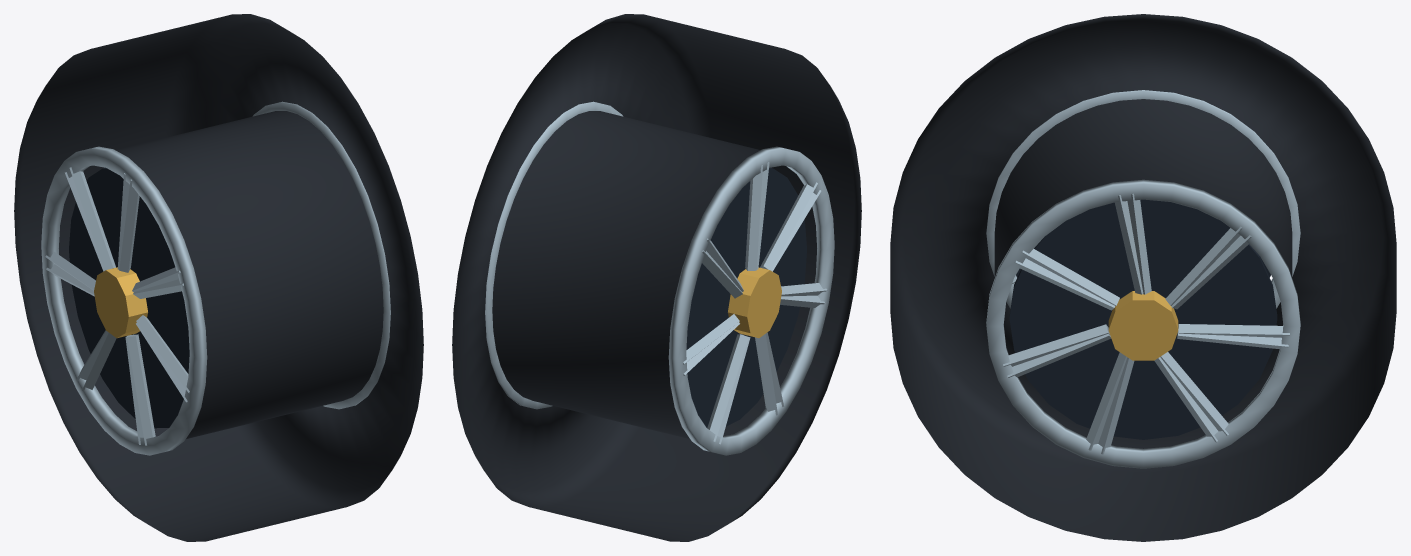
Rendered from split.glb.
3 views of the same model, side by side, from view 1: azimuth 30°, elevation 25°; view 2: azimuth 150°, elevation 25°; view 3: azimuth 270°, elevation 25° (orthographic).
Parts seen in each view (by area): view 1: Wheel; view 2: Wheel; view 3: Wheel.
Part boxes in pixels (x1,y1,x2,y2): Wheel: [14, 14, 423, 541]; Wheel: [452, 14, 861, 541]; Wheel: [890, 14, 1396, 541].
Bounding box in the file's own units: 0.334 × 0.68 × 0.68.
